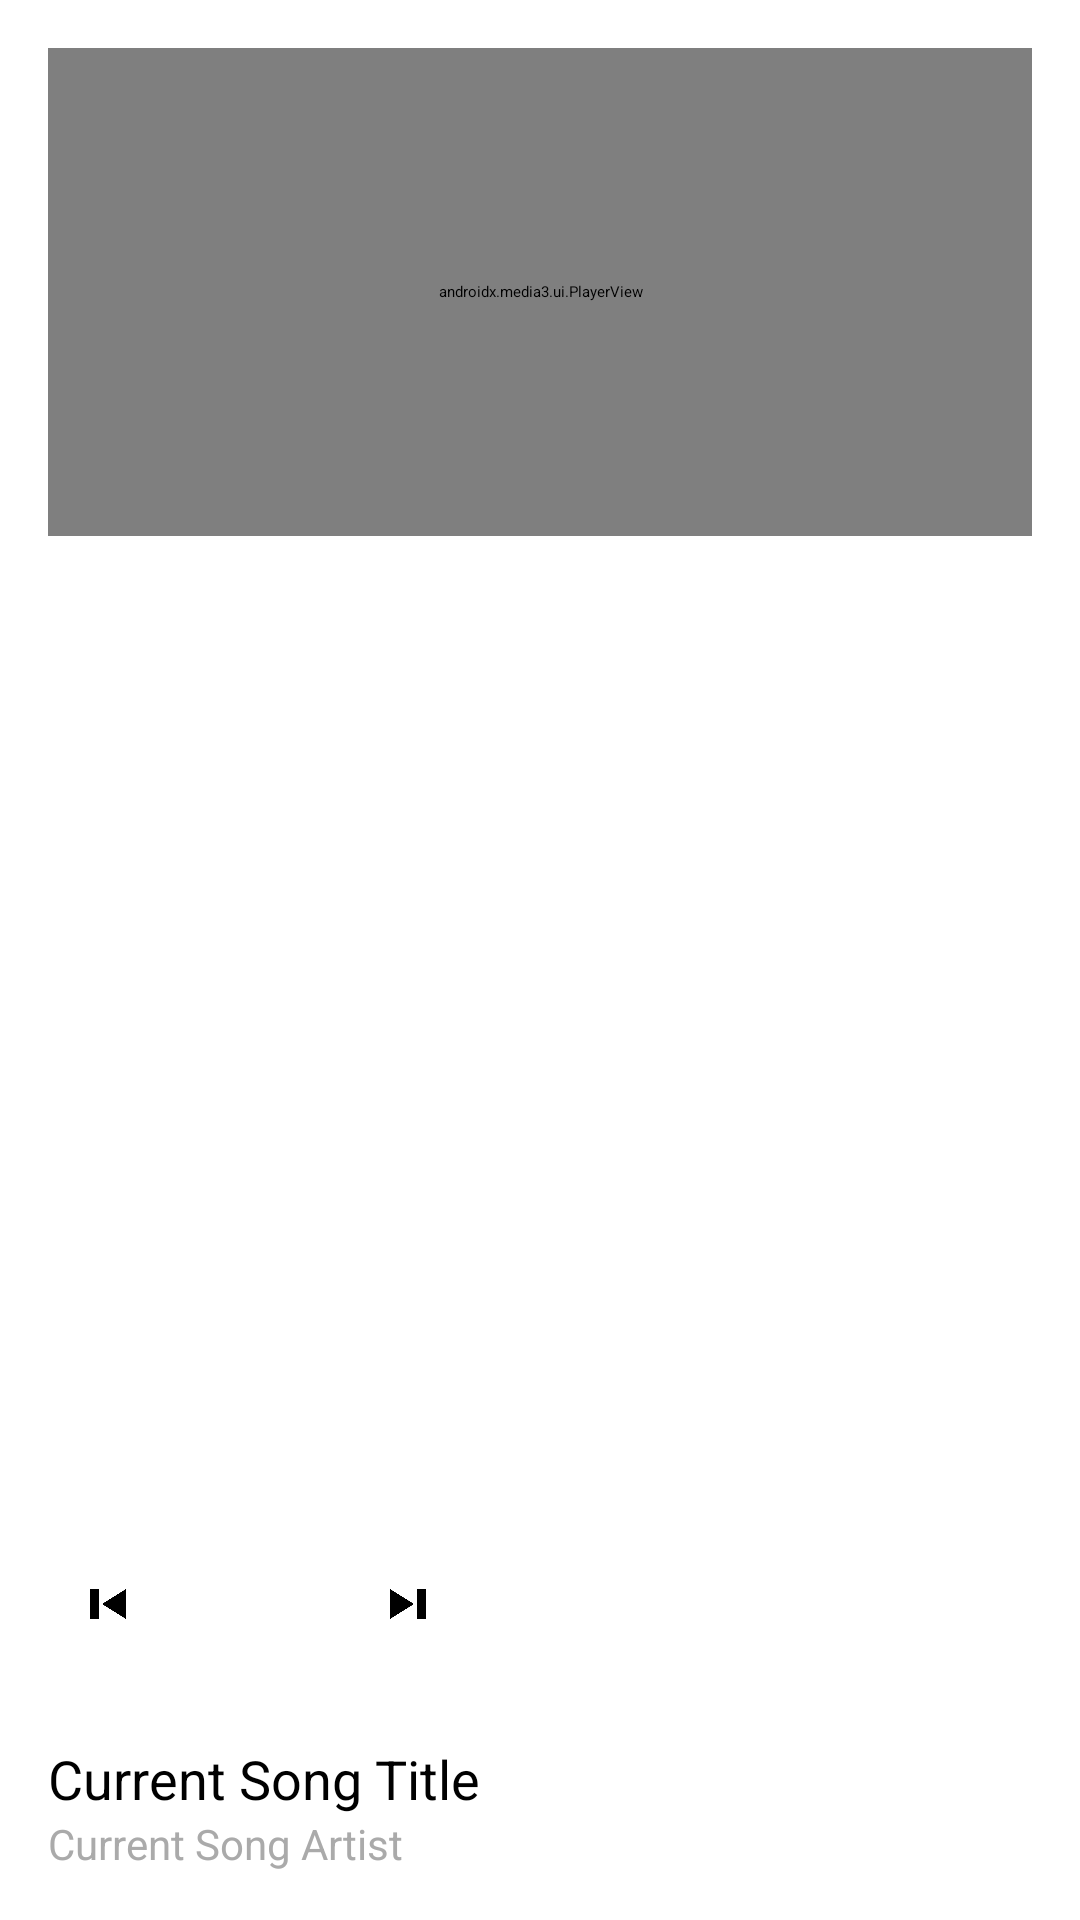

Icon bounding boxes for this 1080 × 1920 phone screenshot, format Rect(x1, y1, x2, y2):
Next: Rect(390, 1589, 426, 1619)
Previous: Rect(90, 1589, 126, 1619)
